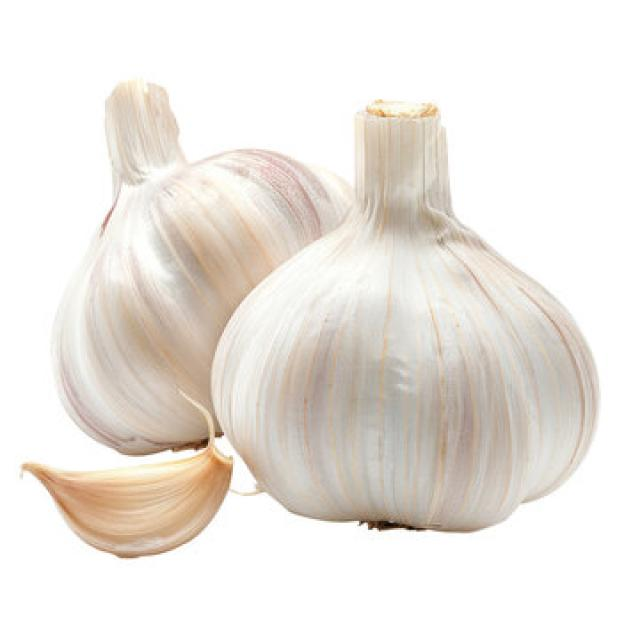Garlic: (208, 96, 599, 533), (46, 82, 353, 462), (18, 439, 233, 558)
